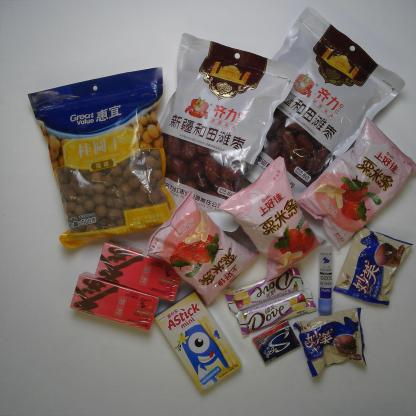Chocolate: (223, 266, 306, 314), (235, 287, 318, 335)
Dessert: (154, 290, 242, 394), (332, 226, 414, 308), (292, 306, 367, 378)
Dried Food: (242, 4, 406, 200), (156, 30, 302, 234), (26, 65, 176, 252)
Gum: (252, 318, 302, 366)
Instant Drink: (69, 270, 160, 332), (94, 239, 182, 302)
Puffed Food: (294, 115, 416, 249), (217, 154, 327, 284), (145, 188, 261, 308)
Stationery: (318, 243, 335, 316)
